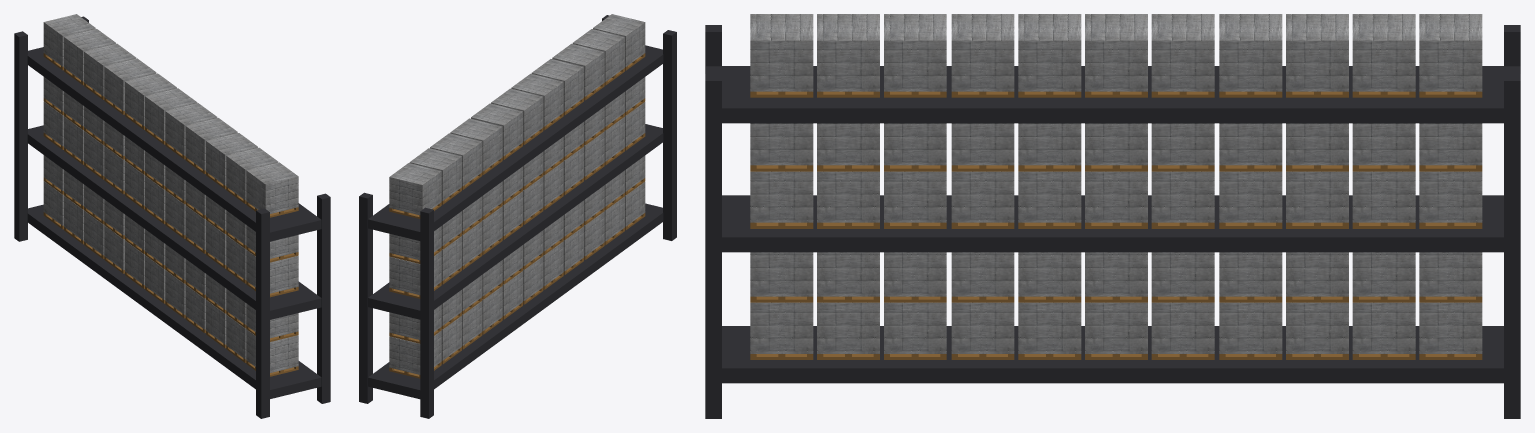
The model's file is rack.dae.
3 views of the same model, side by side, from view 1: azimuth 30°, elevation 25°; view 2: azimuth 150°, elevation 25°; view 3: azimuth 270°, elevation 25° (orthographic). The views are drawn at different scales.
Visible parts, largest first — view 1: Cube.003; view 2: Cube.003; view 3: Cube.003.
Boxes of the visible parts, x1=… form: Cube.003: x1=14, y1=14, x2=330, y2=418; Cube.003: x1=359, y1=14, x2=676, y2=418; Cube.003: x1=705, y1=14, x2=1520, y2=418.
Bounding box in the file's own units: 0.7118 × 4.37 × 2.15.
Materials: 3 (1 with a texture image).
